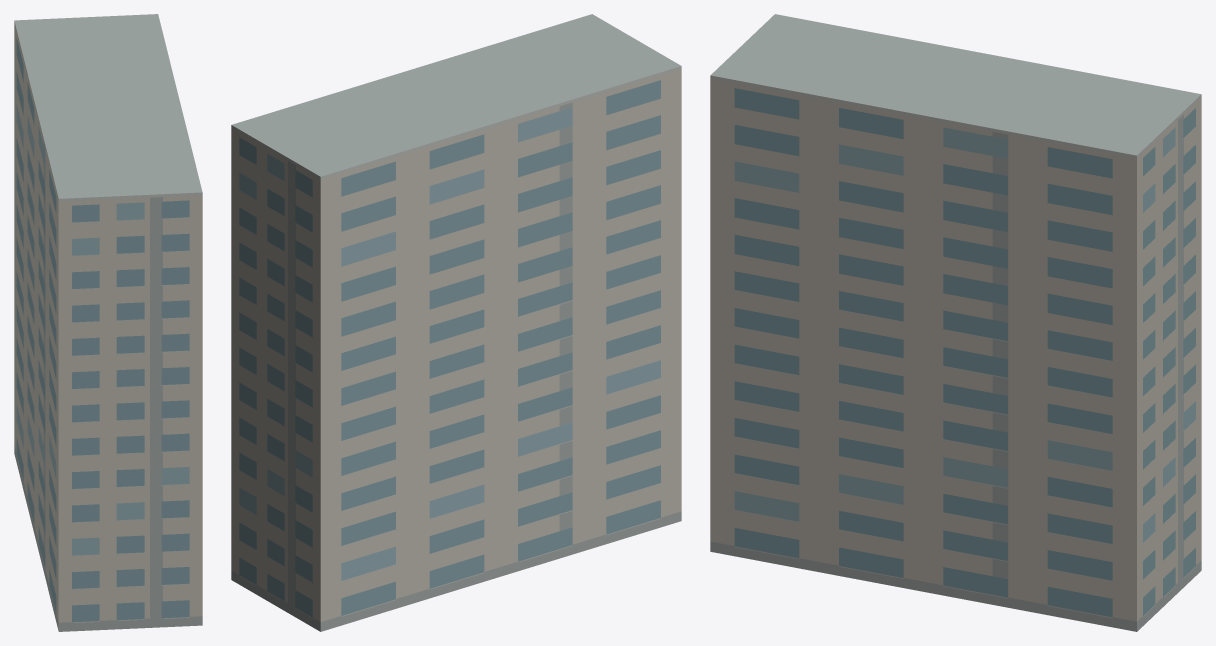
The model's file is residential-6a6ad481-97c6-441f-b0ea-fd64db9794cf.glb.
The picture shows the model from 3 angles, left to right: view 1: azimuth 30°, elevation 25°; view 2: azimuth 150°, elevation 25°; view 3: azimuth 270°, elevation 25°; orthographic projection. The views are drawn at different scales.
Parts seen in each view (by area): view 1: residential-6a6ad481-97c6-441f-b0ea-fd64db9794cf.tmp; view 2: residential-6a6ad481-97c6-441f-b0ea-fd64db9794cf.tmp; view 3: residential-6a6ad481-97c6-441f-b0ea-fd64db9794cf.tmp.
Part boxes in pixels (bbox=[...]): residential-6a6ad481-97c6-441f-b0ea-fd64db9794cf.tmp: bbox=[14, 14, 202, 631]; residential-6a6ad481-97c6-441f-b0ea-fd64db9794cf.tmp: bbox=[231, 14, 681, 631]; residential-6a6ad481-97c6-441f-b0ea-fd64db9794cf.tmp: bbox=[710, 14, 1201, 631].
Size of the model in its own units: 23.6 by 37 by 34.6.
